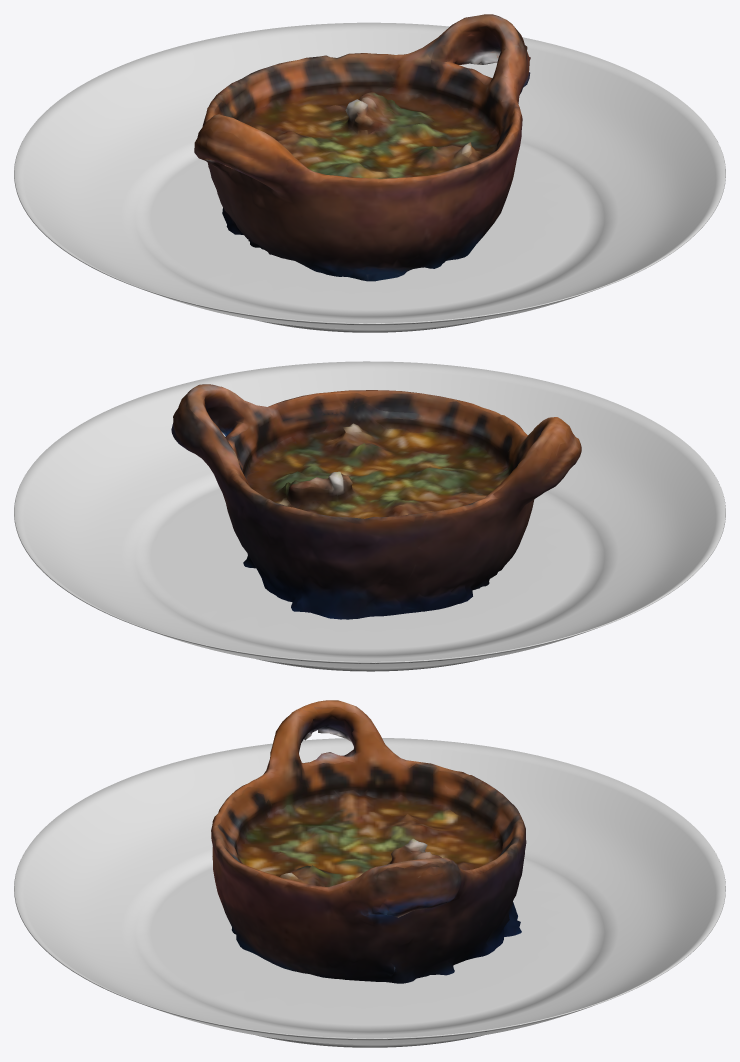
File: birriaplate.fbx
The picture shows the model from 3 angles, top to bottom: view 1: azimuth 30°, elevation 25°; view 2: azimuth 150°, elevation 25°; view 3: azimuth 270°, elevation 25°; orthographic projection.
Parts seen in each view (by area): view 1: Plate, Mesh_0_Part_0.002; view 2: Plate, Mesh_0_Part_0.002; view 3: Plate, Mesh_0_Part_0.002.
Boxes of the visible parts, <box> form: Plate: <box>14,22,725,332</box>; Mesh_0_Part_0.002: <box>194,14,530,281</box>; Plate: <box>14,361,725,671</box>; Mesh_0_Part_0.002: <box>171,384,581,619</box>; Plate: <box>14,738,725,1047</box>; Mesh_0_Part_0.002: <box>211,700,526,983</box>.
Bounding box in the file's own units: 24.72 × 6.61 × 24.72.
2 materials, 1 textured.
